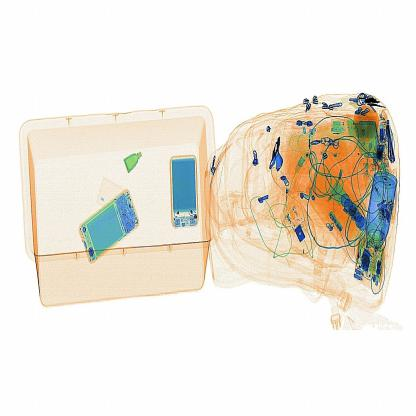wrench: (267, 127, 295, 194)
